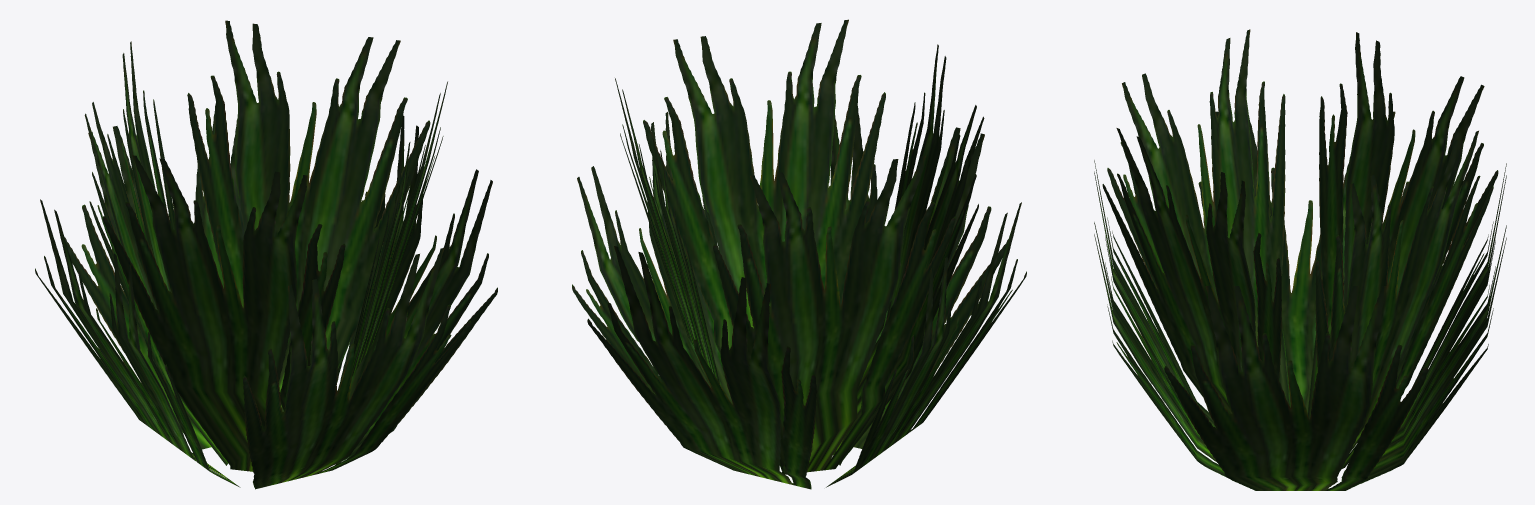
File: bush1.fbx
3 views of the same model, side by side, from view 1: azimuth 30°, elevation 25°; view 2: azimuth 150°, elevation 25°; view 3: azimuth 270°, elevation 25° (orthographic).
Parts seen in each view (by area): view 1: Plane; view 2: Plane; view 3: Plane.
Boxes of the visible parts, x1=… form: Plane: x1=35, y1=20, x2=497, y2=489; Plane: x1=572, y1=19, x2=1026, y2=489; Plane: x1=1094, y1=29, x2=1506, y2=490.
Size of the model in its own units: 1 by 0.9066 by 1.
Materials: 1 (1 with a texture image).
